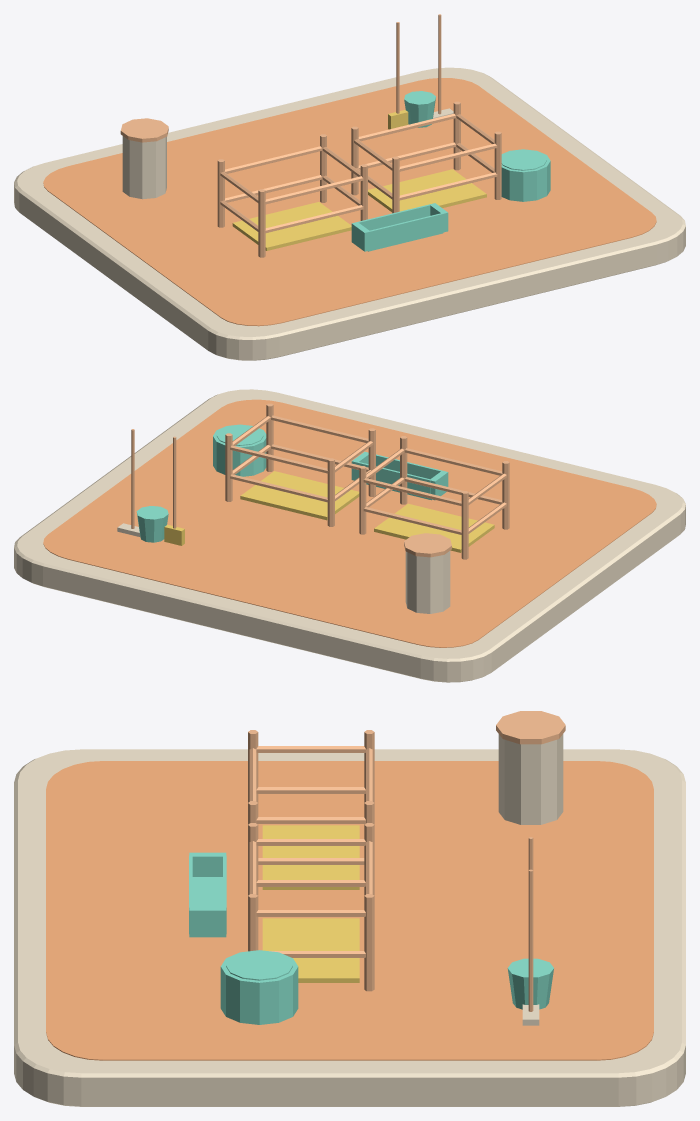
3 views of the same model, one above another, from view 1: azimuth 30°, elevation 25°; view 2: azimuth 150°, elevation 25°; view 3: azimuth 270°, elevation 25° (orthographic). The views are drawn at different scales.
Parts seen in each view (by area): view 1: COM-02 Floor Surface, COM-01 Rounded Base Direct, Bedding zone, Feed bin, Bedding zone.001, Water tub, Bin end, Lid, Bucket, Bin end.001, Water surface, Fence rail.004 (+6 smaller); view 2: COM-02 Floor Surface, COM-01 Rounded Base Direct, Bedding zone.001, Feed bin, Bedding zone, Water tub, Bucket, Lid, Bin end.001, Bin end, Water surface, Fence rail.005 (+11 smaller); view 3: COM-02 Floor Surface, COM-01 Rounded Base Direct, Feed bin, Bedding zone.001, Bedding zone, Water tub, Lid, Bucket, Water surface, Bin side.001, Fence post.007, Bin bottom (+10 smaller).
Boxes of the visible parts, bbox=[...] form: COM-02 Floor Surface: bbox=[43, 78, 656, 326]; COM-01 Rounded Base Direct: bbox=[14, 67, 685, 360]; Bedding zone: bbox=[232, 202, 351, 250]; Feed bin: bbox=[122, 136, 166, 199]; Bedding zone.001: bbox=[368, 169, 486, 212]; Water tub: bbox=[501, 149, 550, 201]; Bin end: bbox=[369, 213, 443, 250]; Lid: bbox=[120, 118, 168, 142]; Bucket: bbox=[404, 91, 435, 127]; Bin end.001: bbox=[356, 204, 431, 230]; Water surface: bbox=[501, 150, 546, 170]; Fence rail.004: bbox=[399, 172, 497, 200]; COM-02 Floor Surface: bbox=[43, 399, 656, 647]; COM-01 Rounded Base Direct: bbox=[14, 389, 685, 682]; Bedding zone.001: bbox=[240, 471, 359, 520]; Feed bin: bbox=[405, 551, 450, 613]; Bedding zone: bbox=[374, 503, 494, 552]; Water tub: bbox=[213, 424, 266, 476]; Bucket: bbox=[136, 506, 168, 542]; Lid: bbox=[404, 533, 451, 557]; Bin end.001: bbox=[356, 461, 430, 499]; Bin end: bbox=[368, 453, 443, 479]; Water surface: bbox=[216, 425, 263, 445]; Fence rail.005: bbox=[230, 474, 328, 502]; COM-02 Floor Surface: bbox=[46, 761, 653, 1060]; COM-01 Rounded Base Direct: bbox=[14, 749, 685, 1106]; Feed bin: bbox=[498, 734, 563, 824]; Bedding zone.001: bbox=[262, 918, 359, 982]; Bedding zone: bbox=[262, 825, 359, 889]; Water tub: bbox=[220, 950, 298, 1024]; Lid: bbox=[496, 711, 565, 744]; Bucket: bbox=[507, 958, 553, 1009]; Water surface: bbox=[226, 951, 292, 980]; Bin side.001: bbox=[189, 906, 226, 937]; Fence post.007: bbox=[364, 894, 374, 991]; Bin bottom: bbox=[192, 877, 222, 906].
Size of the model in its own units: 6 by 1.58 by 5.2.
Materials: 1 (1 with a texture image).
